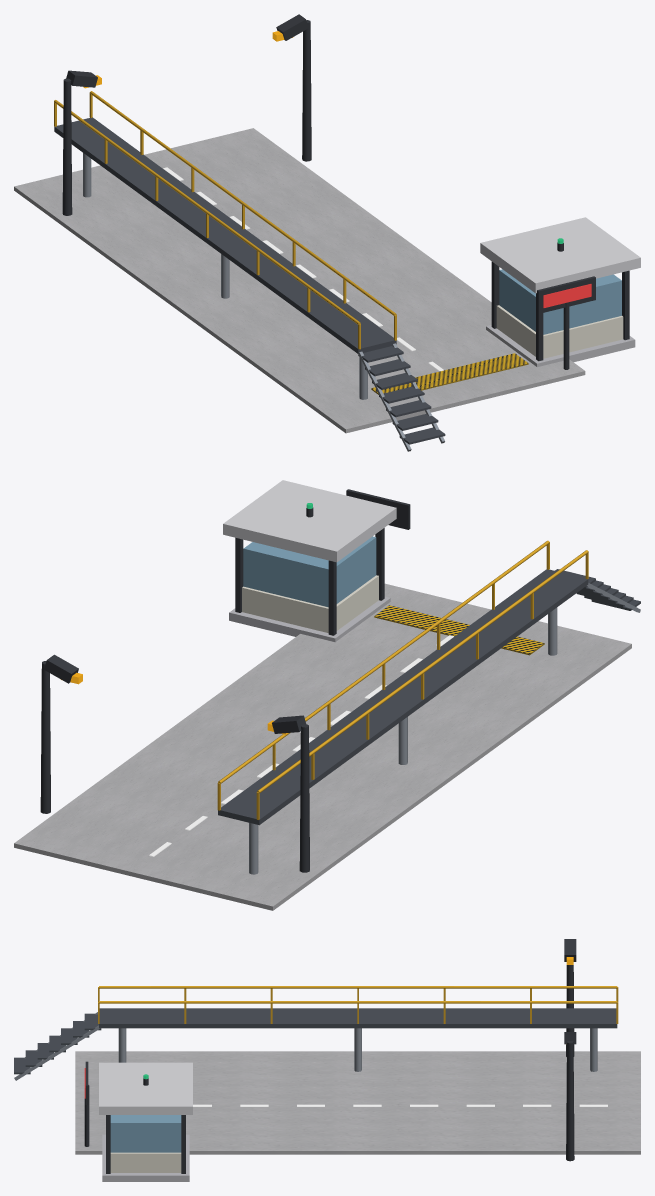
File: vistoria.glb
3 views of the same model, one above another, from view 1: azimuth 30°, elevation 25°; view 2: azimuth 150°, elevation 25°; view 3: azimuth 270°, elevation 25° (orthographic). The views are drawn at different scales.
Size of the model in its own units: 12.9 by 5.74 by 26.6.
Materials: 14 (2 with a texture image).
